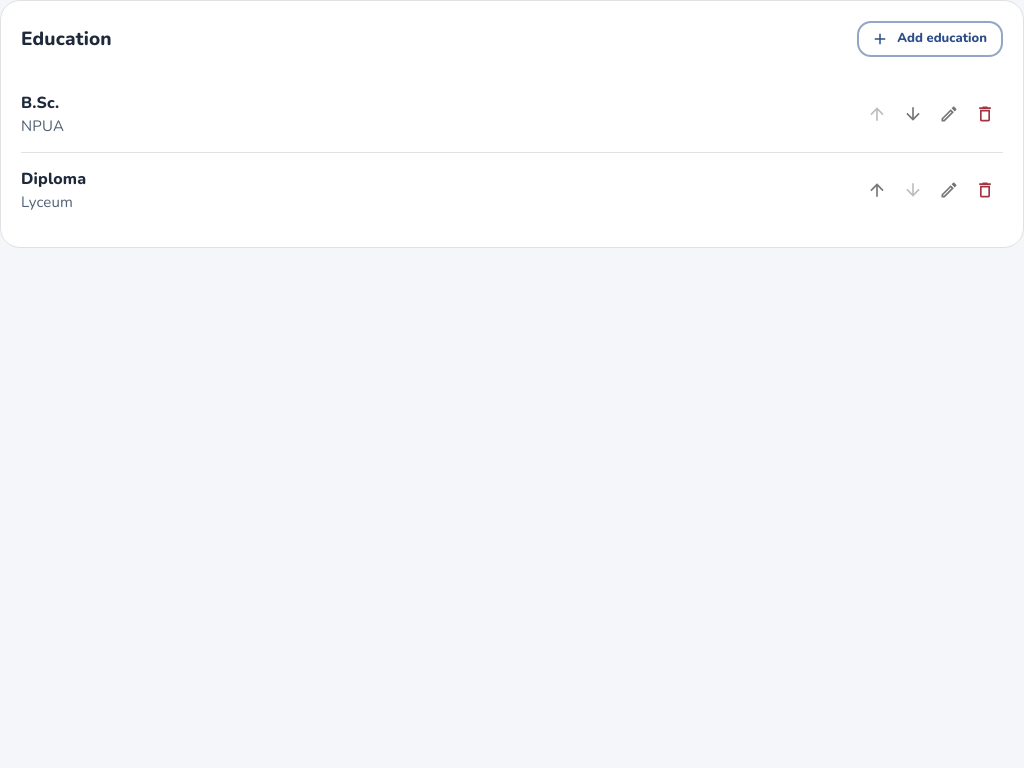
SectionEditor › deletes only after confirming
The image size is (1024, 768).
Step 1. Click the button named "Delete: B.Sc., NPUA" → coordinates (985, 114), box x1=967 y1=96 x2=1003 y2=132
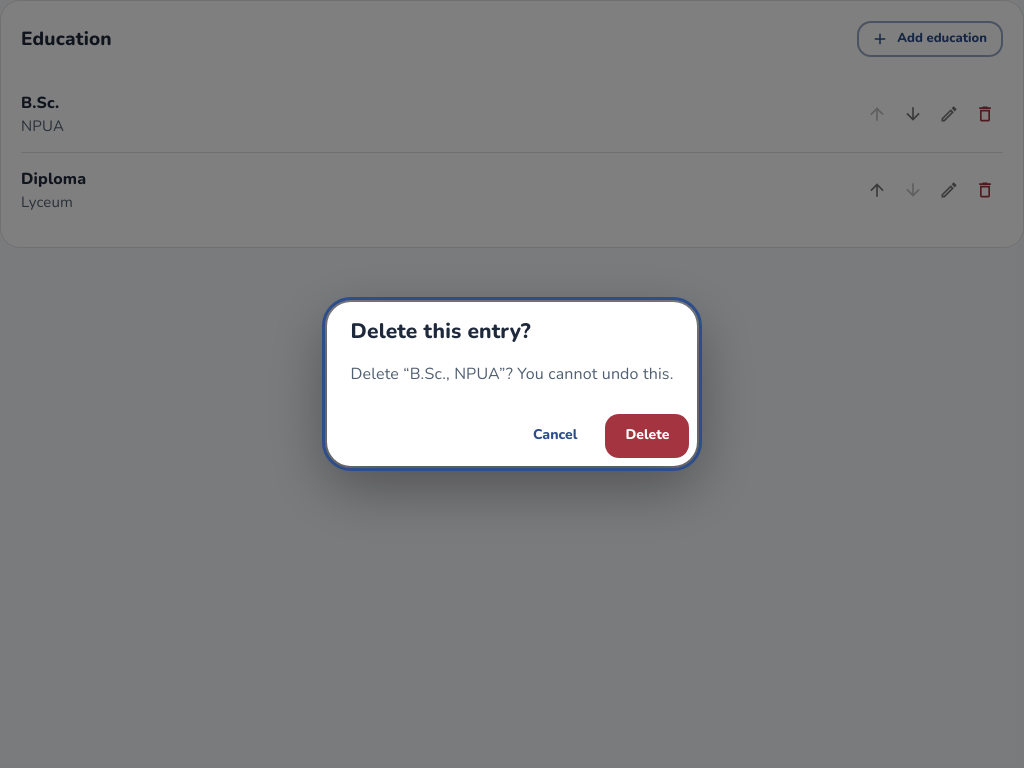
Expected: the heading "Delete this entry?" is shown, x1=350 y1=317 x2=531 y2=345
Expected: the text "Delete “B.Sc., NPUA”? You cannot undo this." is shown, x1=350 y1=362 x2=673 y2=386
Step 2. Click the button "Delete" → coordinates (647, 436), box x1=605 y1=414 x2=689 y2=458
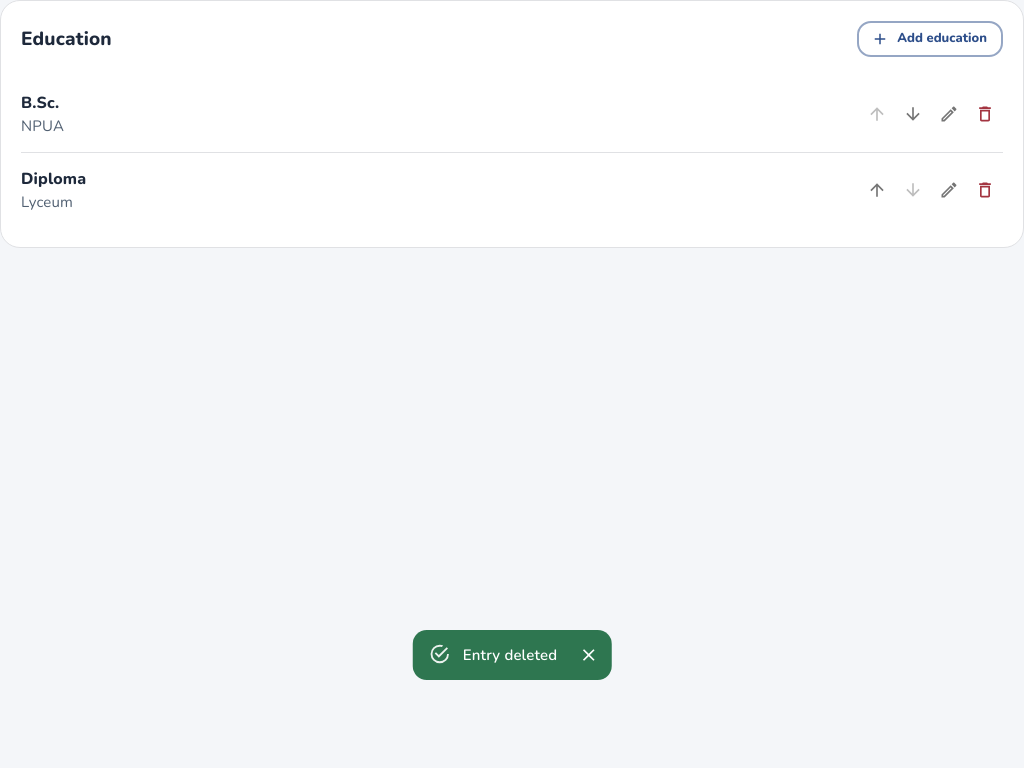
Expected: the message reads "Entry deleted", x1=463 y1=644 x2=557 y2=664
